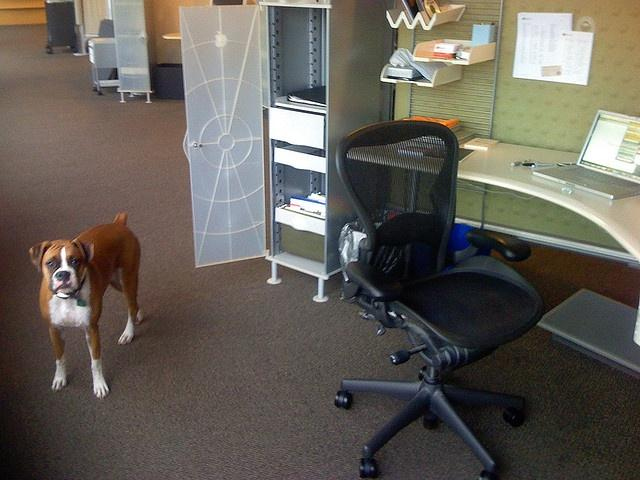Kursi: (332, 119, 545, 479)
